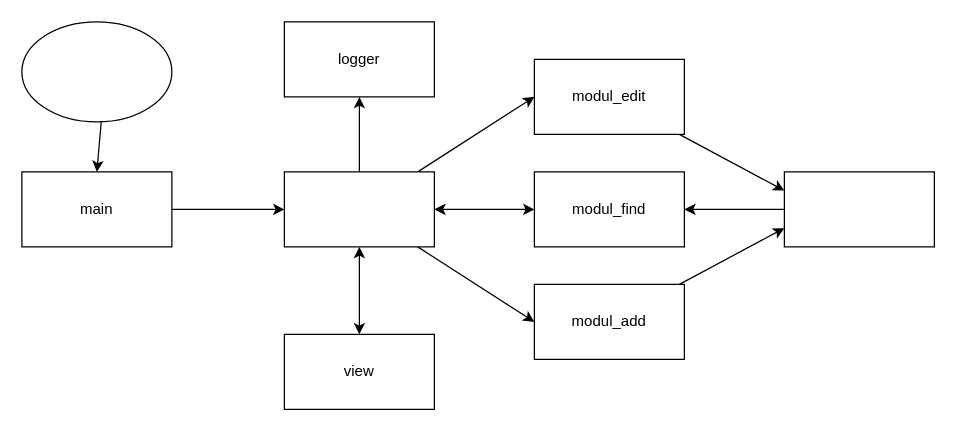
The diagram is 956 pixels wide and 431 high, and some of its shapes have lost their labels. Here are the shapes that lost their labels. From the top down, the box of each, then its label:
(21, 21, 172, 122): начало
(283, 171, 434, 247): controller
(783, 171, 934, 247): data_base
